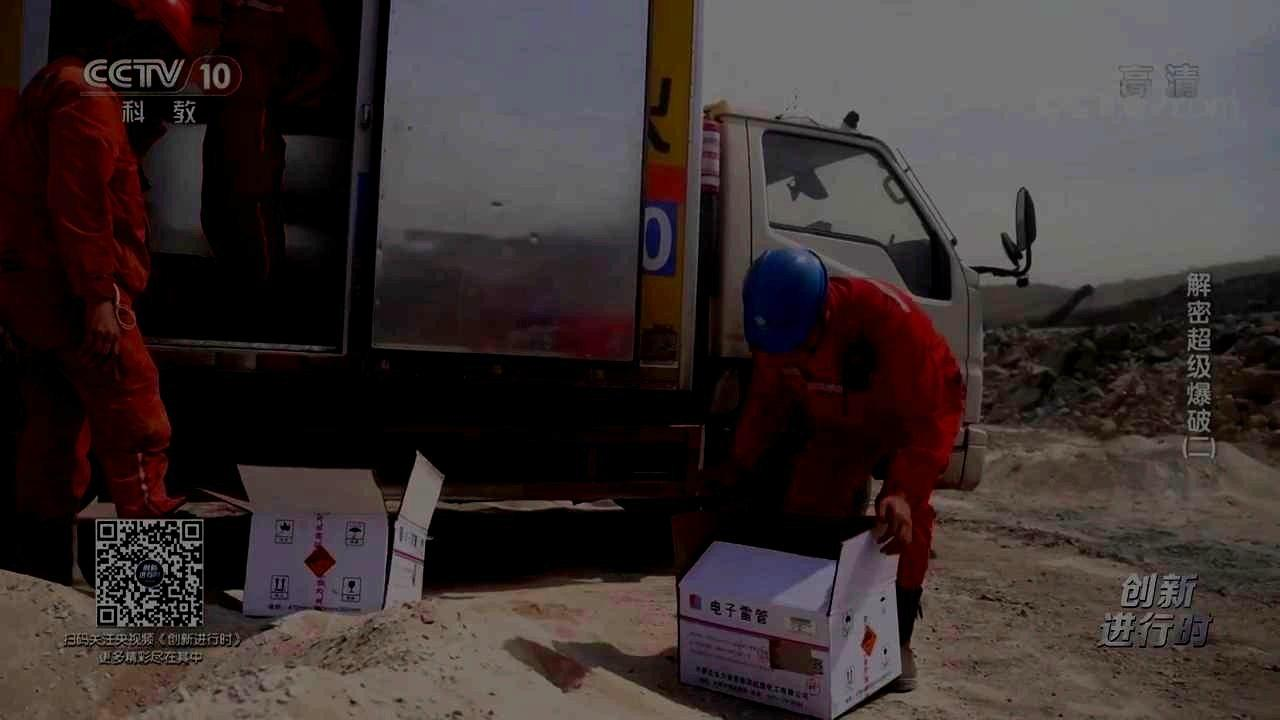helmet: (741, 245, 830, 357), (93, 1, 196, 74)
